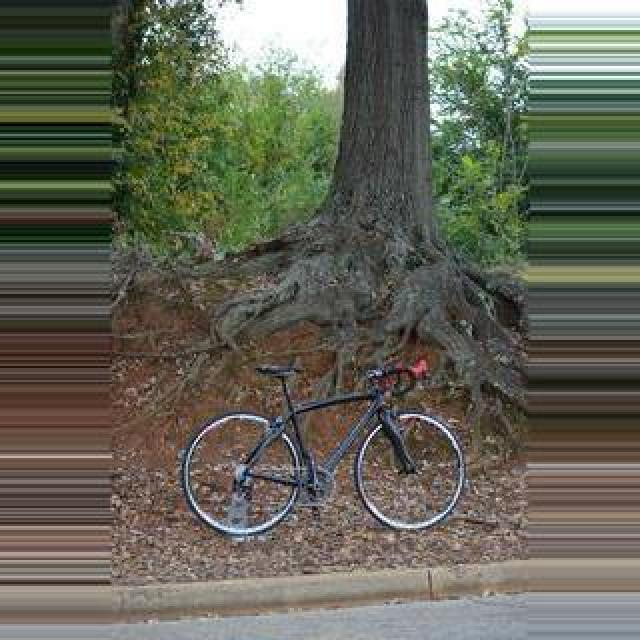Person: (183, 359, 465, 539)
